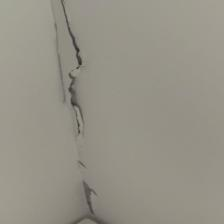Medium: (49, 17, 115, 216)
